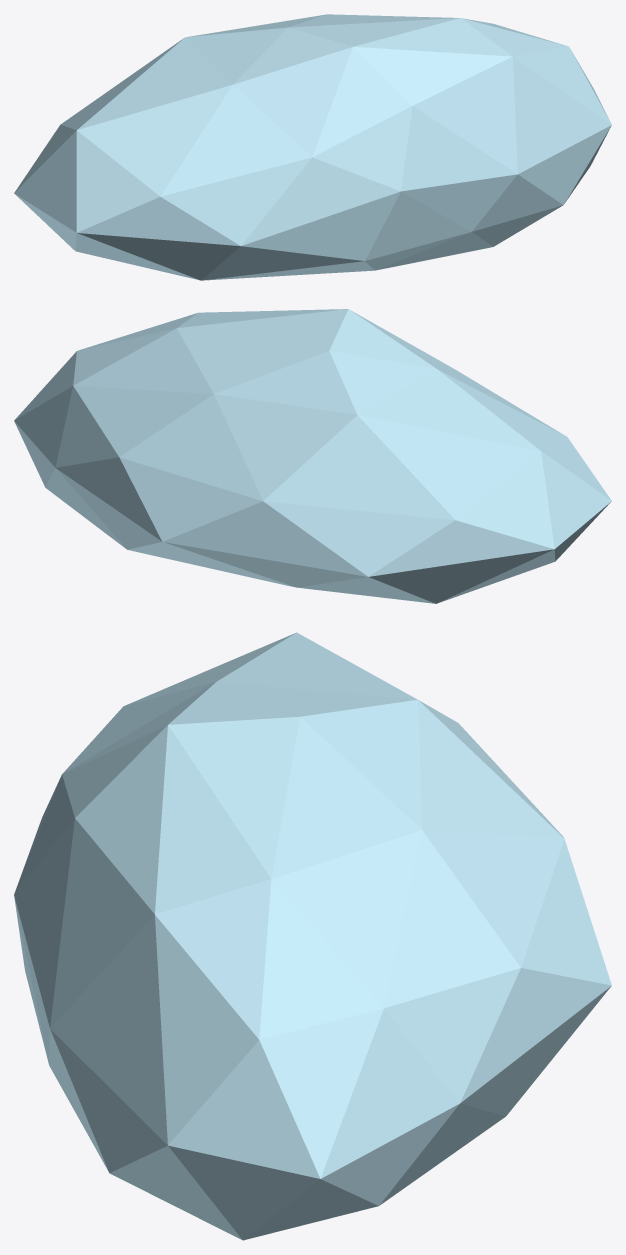
Rendered from bulut3.fbx.
3 renders of one model, top to bottom at view 1: azimuth 30°, elevation 25°; view 2: azimuth 150°, elevation 25°; view 3: azimuth 270°, elevation 25°, orthographic. The views are drawn at different scales.
Visible parts, largest first — view 1: Icosphere; view 2: Icosphere; view 3: Icosphere.
Part boxes in pixels (x1=…): Icosphere: x1=14, y1=14, x2=611, y2=280; Icosphere: x1=14, y1=309, x2=611, y2=603; Icosphere: x1=14, y1=632, x2=611, y2=1240.
Size of the model in its own units: 410 by 162 by 240.
